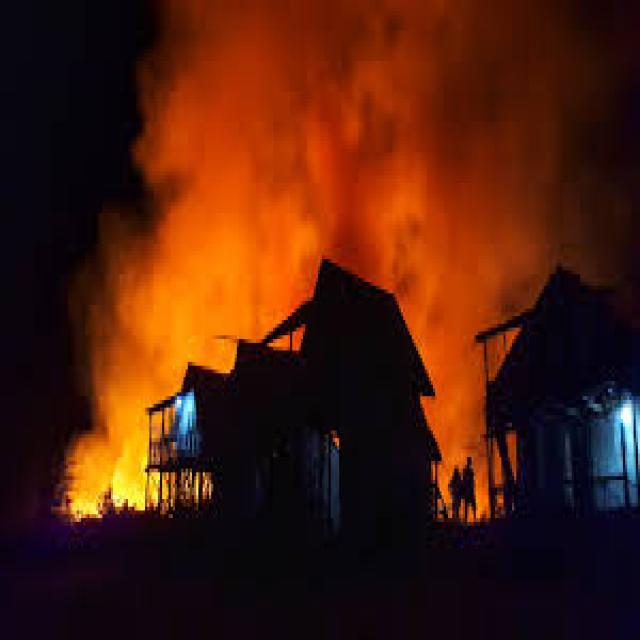Fire: (58, 386, 212, 518)
Smoke: (90, 1, 640, 382)
